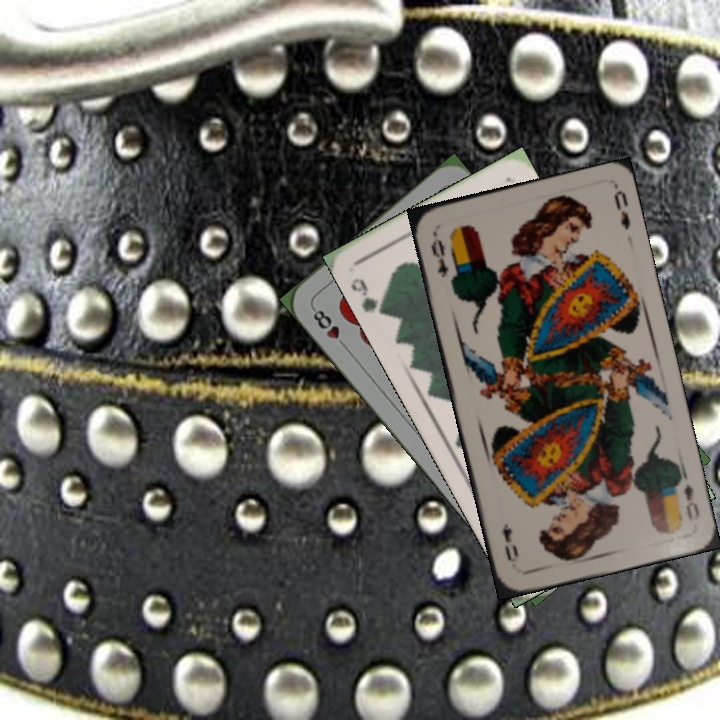EO: (670, 468, 702, 523), (426, 229, 452, 280)
G9: (346, 274, 391, 318)
H8: (308, 303, 351, 352)
